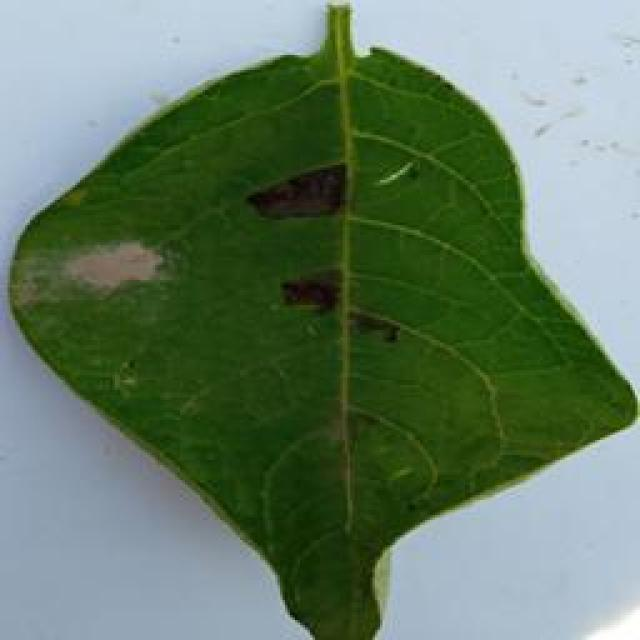Potato_Late_Blight: (7, 3, 626, 636)
